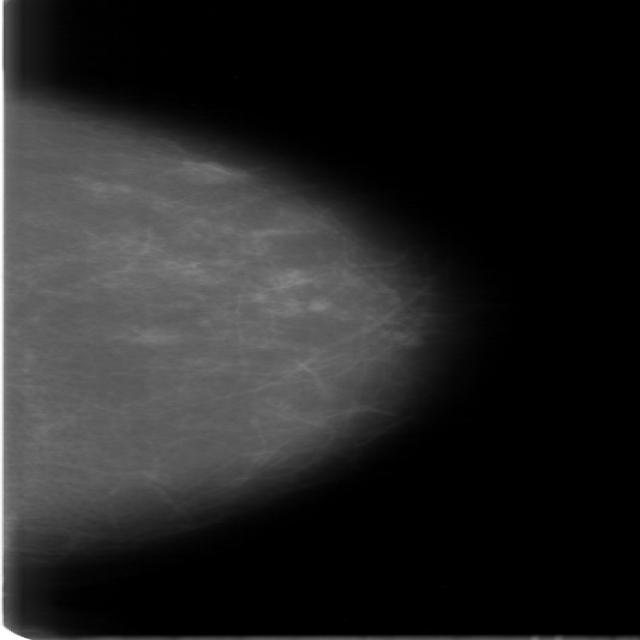tumour: (179, 160, 243, 184)
